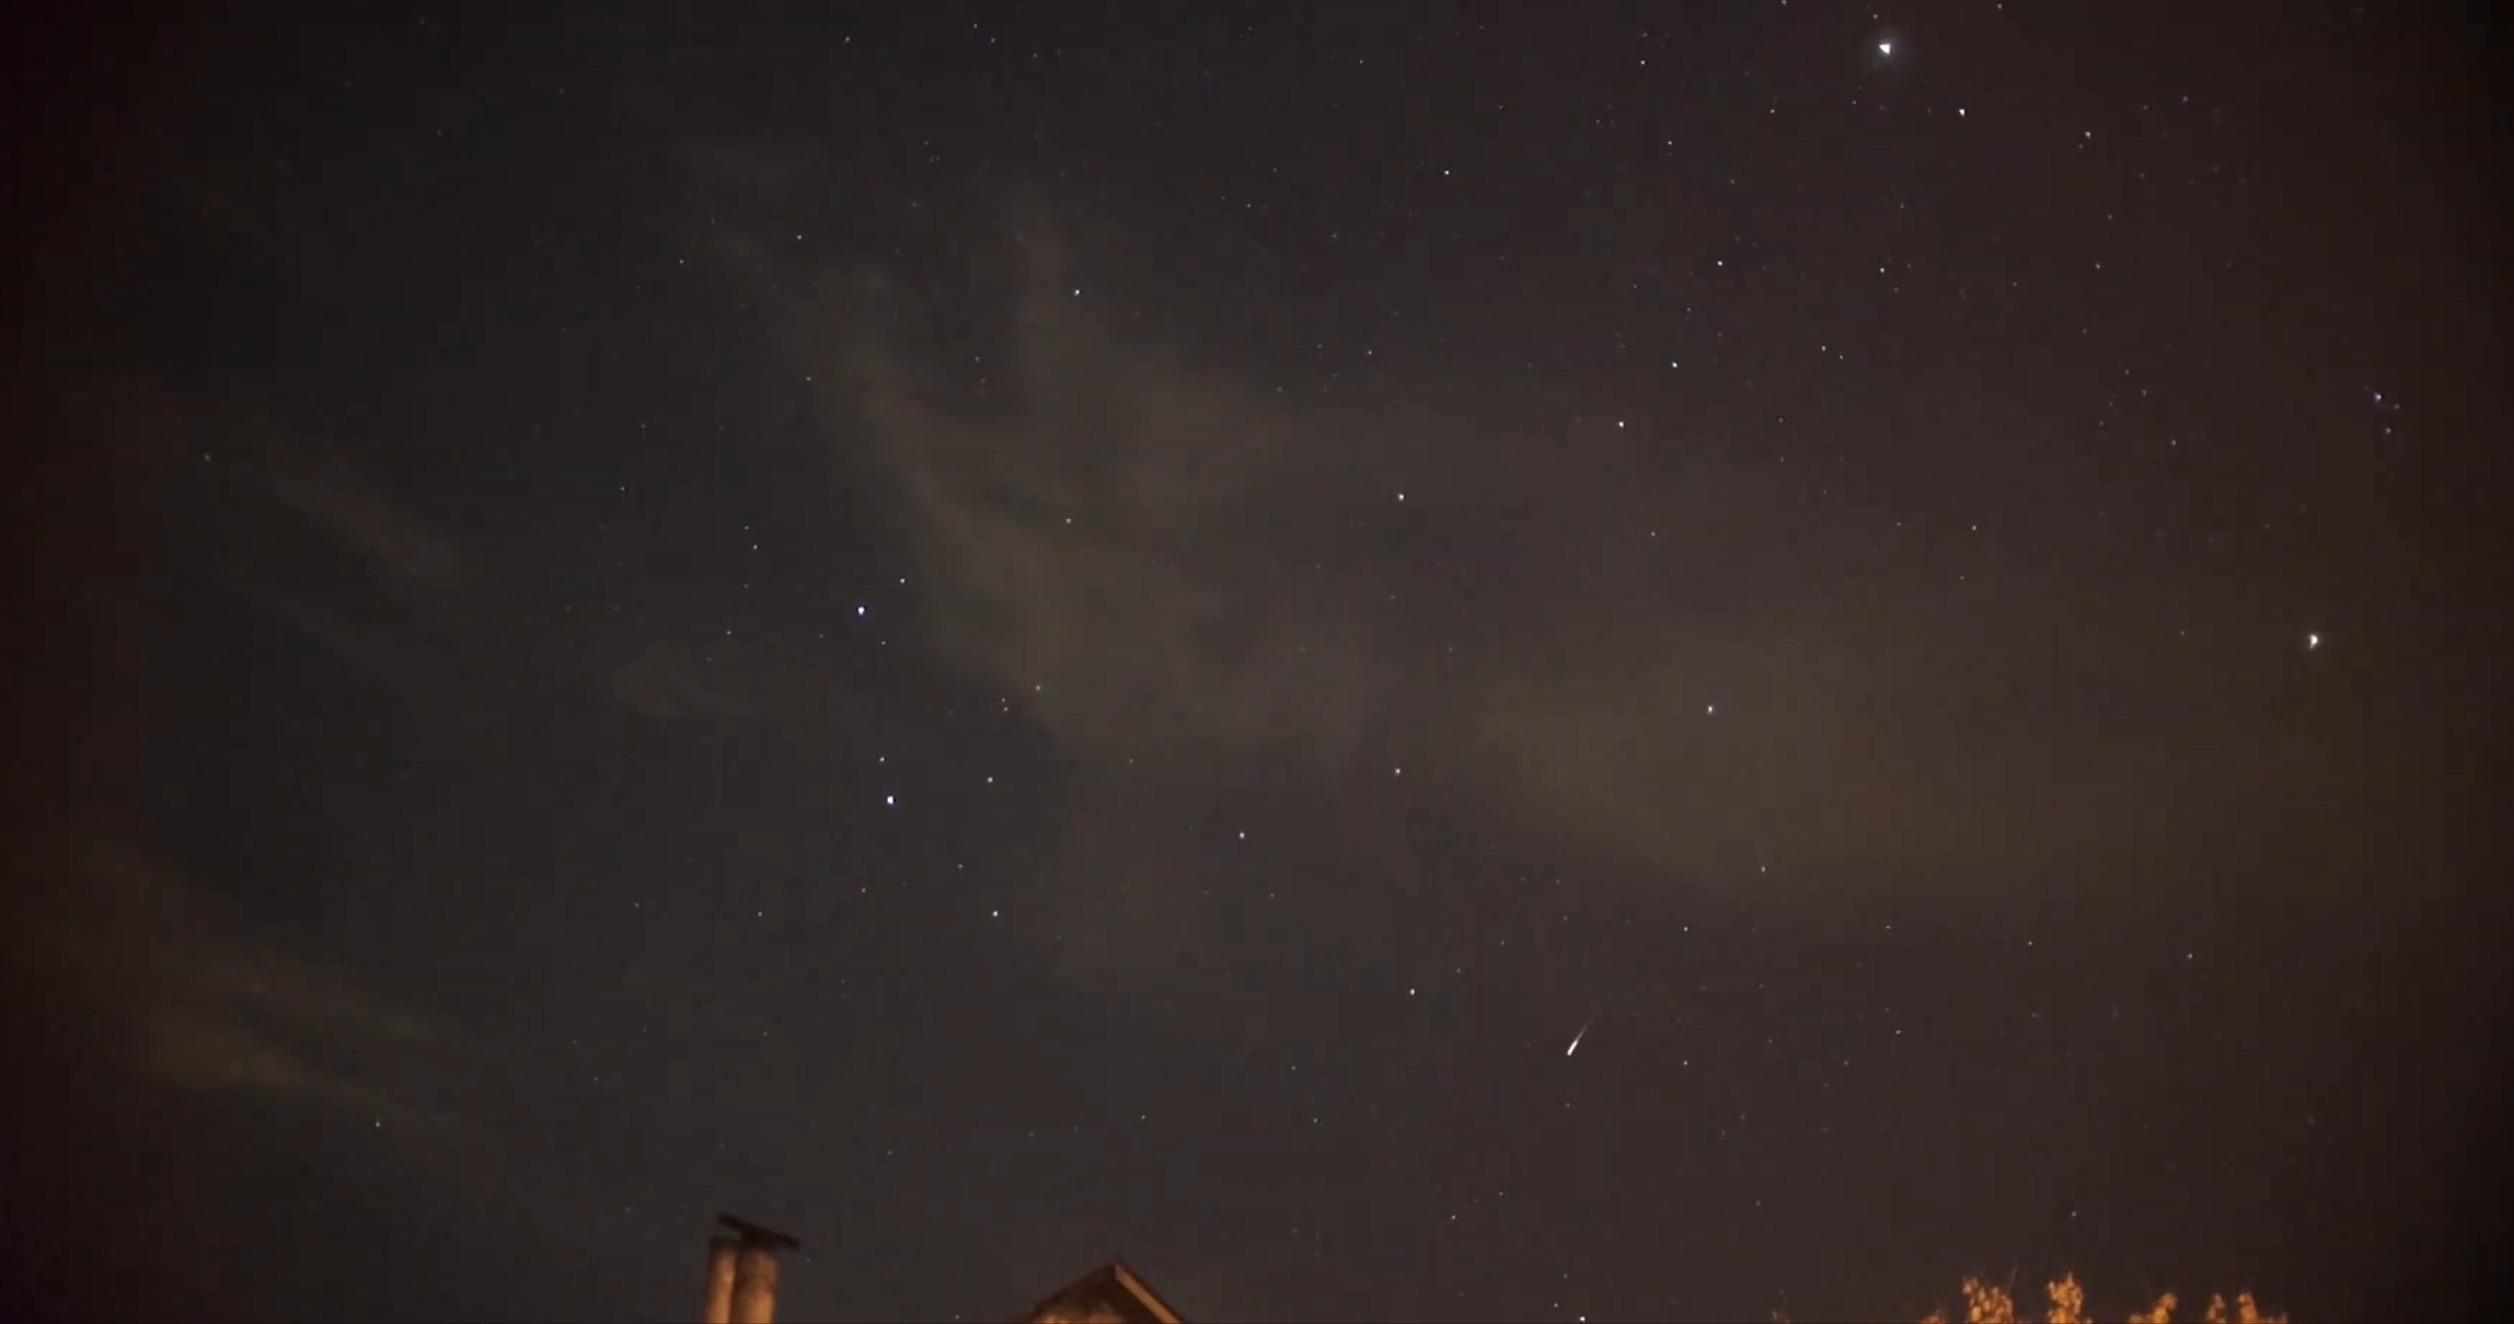meteorite: (1520, 1008, 1633, 1075)
